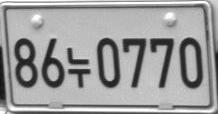0: (178, 36, 203, 89), (95, 37, 120, 89)
6: (40, 37, 65, 88)
7: (121, 37, 147, 88), (149, 37, 174, 88)
8: (13, 37, 38, 88)
누: (66, 47, 90, 89)
